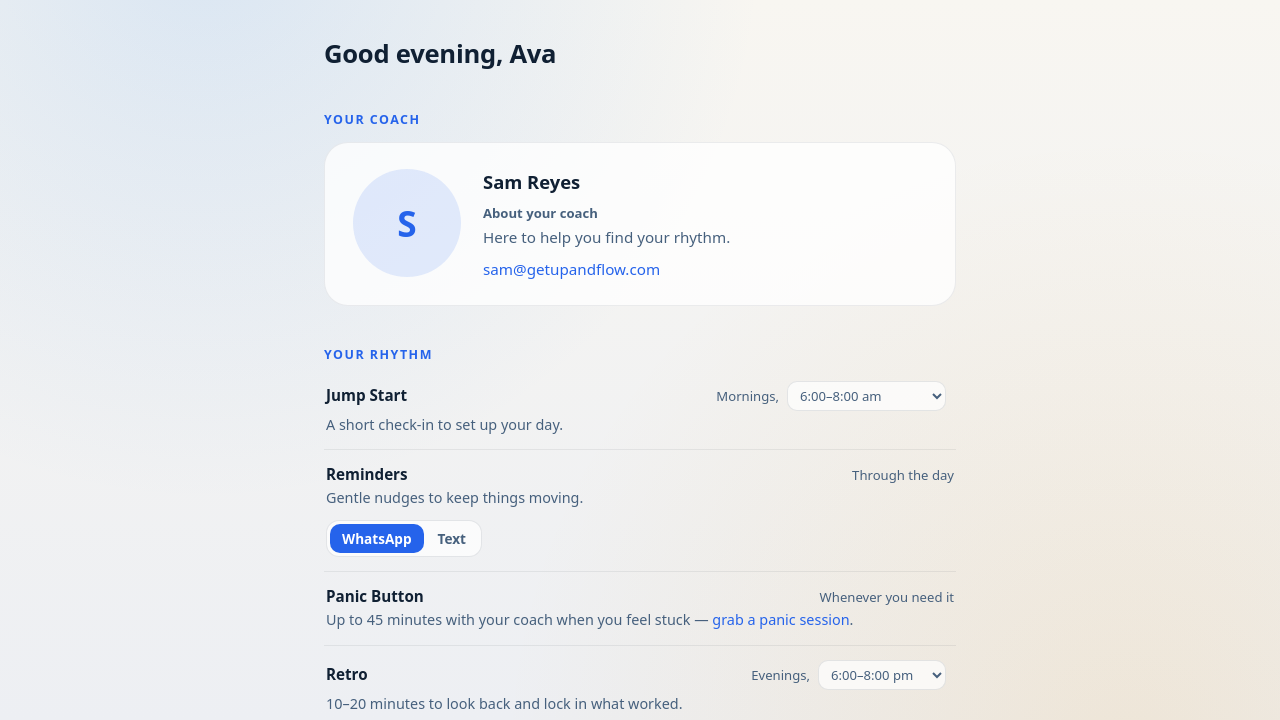
Test case: Rhythm window editors › shows the saved morning window (legacy rendered as stored) and PATCHes an hourly change
The image size is (1280, 720).
Select "7:00–8:00 am" in the dropdown named "Jump Start morning window" at (866, 396), box [787,381,946,411]
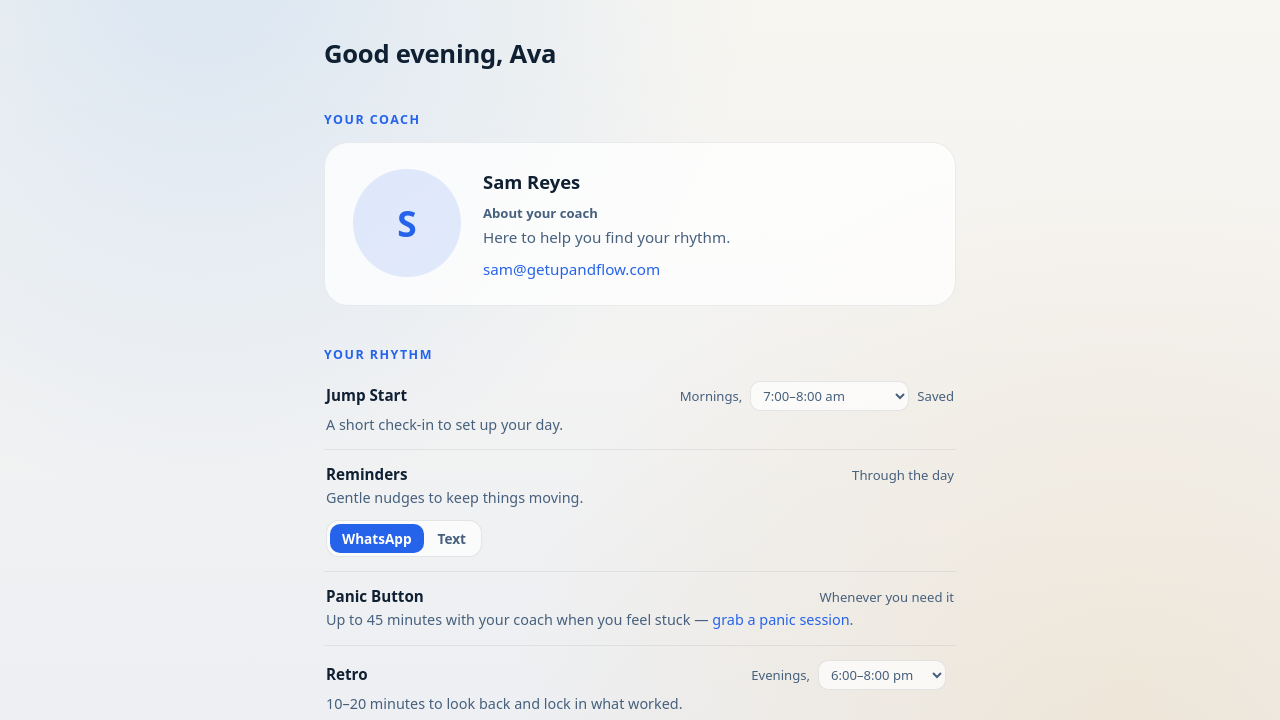
Expected: the message reads "Saved", [917,387,954,405]
